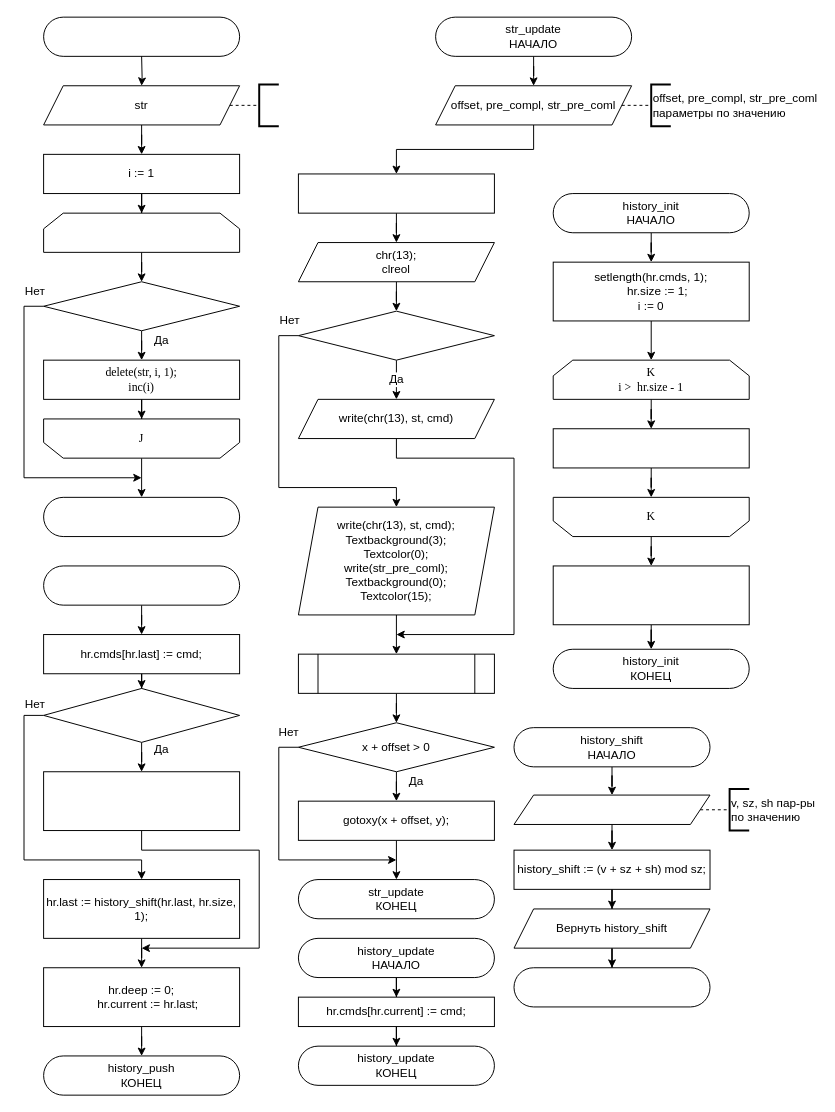
Some shapes in this 835 by 1112 pixel diagram are drawn without their labels. Here are the shapes that lost their labels. From the top down, the box of each, then its label:
(43, 16, 240, 56): str_skip_whitesp НАЧАЛО
(258, 83, 279, 127): str - параметр по ссылке
(297, 173, 494, 213): x := wherex; y := wherey;
(43, 212, 240, 252): J i > length(str)
(43, 281, 240, 331): str[i] = ' '
(297, 310, 494, 360): pre_compl = 0
(552, 428, 749, 468): hr.cmds[i] := ''; inc(i)
(43, 496, 240, 537): str_skip_whitesp КОНЕЦ
(43, 565, 240, 605): history_push НАЧАЛО
(552, 565, 749, 625): hr.current := hr.size - 1; hr.last := hr.size - 1; hr.deep := 0;
(297, 653, 494, 693): history_update
(43, 687, 240, 742): hr.size < max_hist_elems
(43, 771, 240, 831): setlength(hr.cmds, hr.size + 1); hr.last := hr.size; inc(hr.size);
(513, 794, 710, 824): v, sz, sh
(513, 967, 710, 1007): history_shift КОНЕЦ
